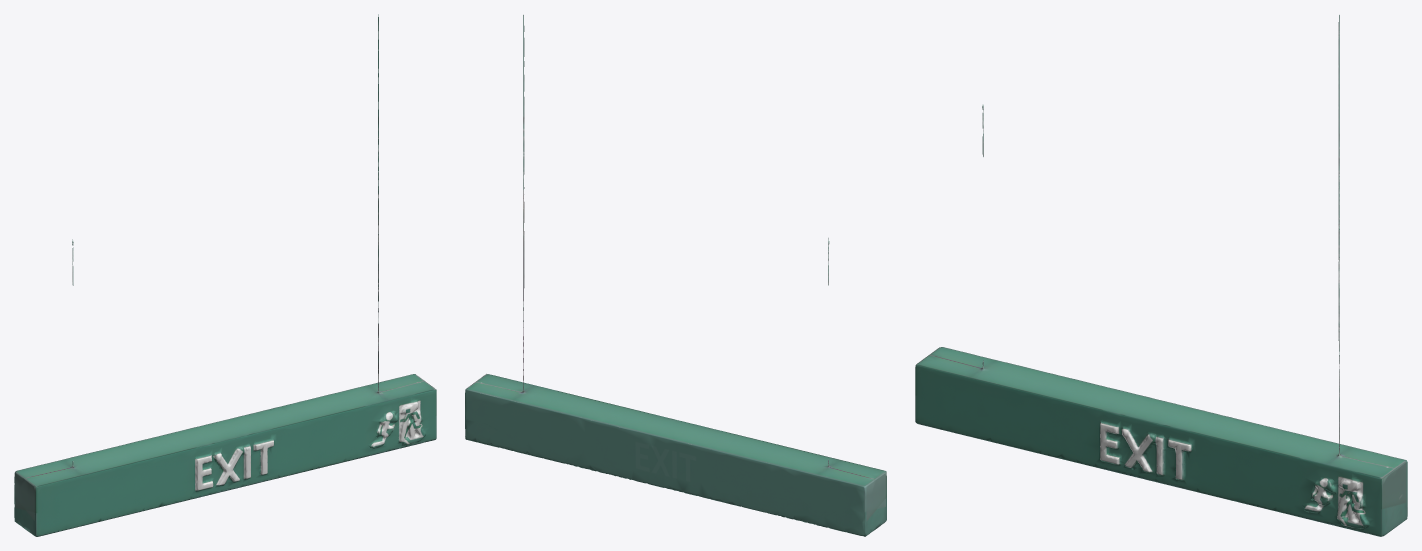
The model's file is Meshy_AI_Mall_Exit_Pathway_0107151015_texture.fbx.
3 views of the same model, side by side, from view 1: azimuth 30°, elevation 25°; view 2: azimuth 150°, elevation 25°; view 3: azimuth 330°, elevation 25° (orthographic). The views are drawn at different scales.
Visible parts, largest first — view 1: Mesh_0; view 2: Mesh_0; view 3: Mesh_0.
Part boxes in pixels (<box>): Mesh_0: <box>14,14,436,536</box>; Mesh_0: <box>465,15,886,536</box>; Mesh_0: <box>915,15,1407,536</box>.
Size of the model in its own units: 185 by 190 by 18.84.
Materials: 1 (1 with a texture image).
